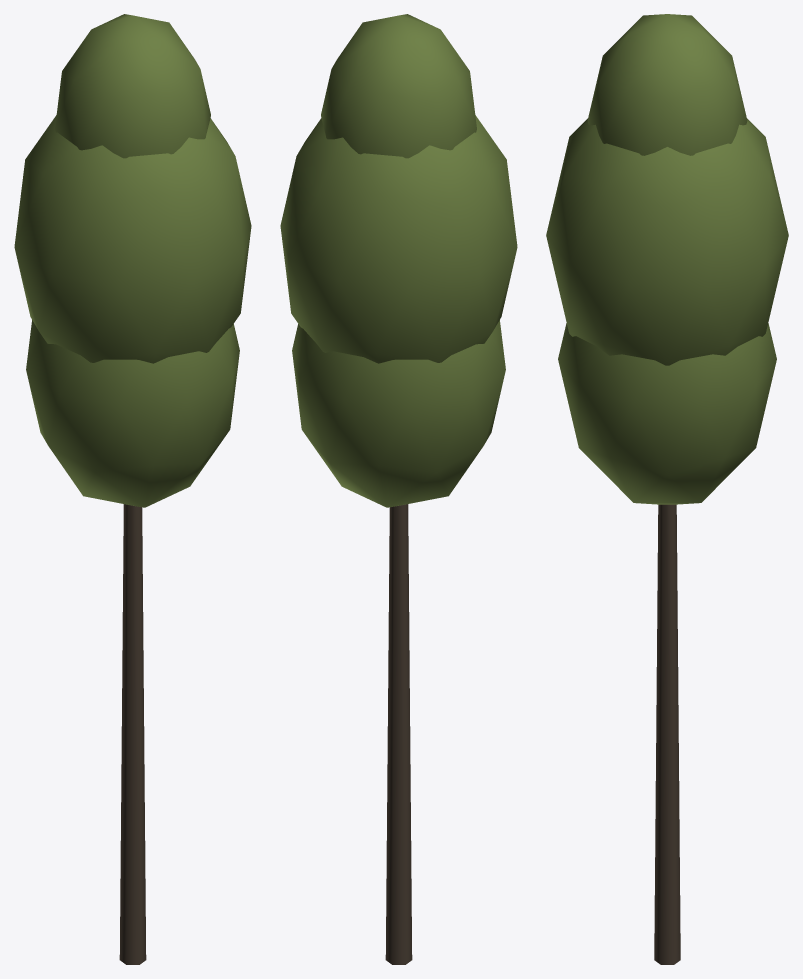
Rendered from Tree_Slender_A.fbx.
The picture shows the model from 3 angles, left to right: view 1: azimuth 30°, elevation 25°; view 2: azimuth 150°, elevation 25°; view 3: azimuth 270°, elevation 25°; orthographic projection.
Visible parts, largest first — view 1: Tree_Slender_A; view 2: Tree_Slender_A; view 3: Tree_Slender_A.
Part boxes in pixels (bbox=[...]): Tree_Slender_A: bbox=[14, 14, 251, 964]; Tree_Slender_A: bbox=[280, 14, 517, 964]; Tree_Slender_A: bbox=[546, 14, 788, 964].
Size of the model in its own units: 3.31 by 14.99 by 3.49.
